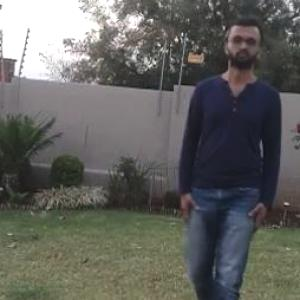follow: (178, 22, 278, 299)
